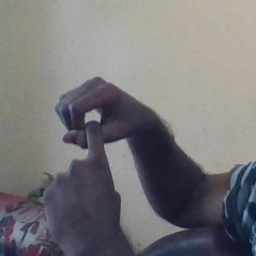Q: (39, 77, 138, 217)
